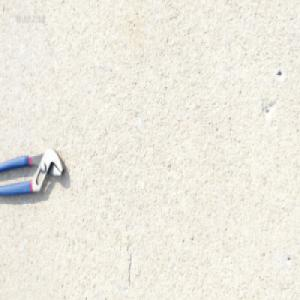Pliers: (0, 144, 65, 197)
